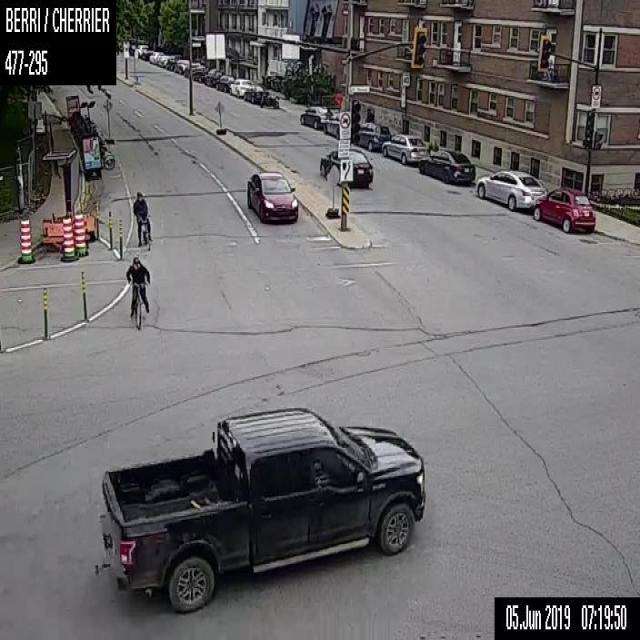construction: (18, 215, 32, 261), (326, 164, 338, 217), (72, 212, 86, 256), (61, 216, 74, 262), (102, 94, 113, 142), (213, 100, 226, 134), (80, 268, 87, 320), (107, 207, 113, 249), (42, 287, 47, 336), (118, 215, 123, 257)
cyclist: (125, 255, 149, 328), (132, 192, 152, 250)
vehicle: (97, 408, 425, 614), (532, 186, 595, 232), (476, 169, 546, 209), (246, 170, 298, 220), (318, 148, 372, 187), (418, 148, 475, 183), (381, 134, 426, 164), (352, 121, 391, 149), (299, 105, 333, 129), (228, 77, 254, 97), (243, 84, 269, 103), (322, 111, 340, 138), (216, 74, 236, 91), (204, 69, 222, 86), (183, 61, 199, 80), (260, 93, 280, 107), (192, 66, 208, 81), (174, 58, 188, 72), (148, 50, 162, 64), (134, 44, 148, 56), (165, 57, 175, 70), (157, 55, 169, 65), (128, 44, 136, 55)
